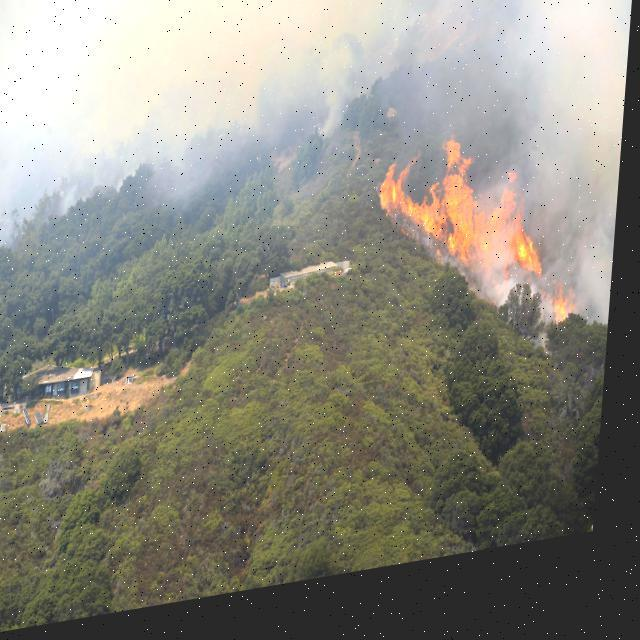Fire: (356, 67, 616, 408)
